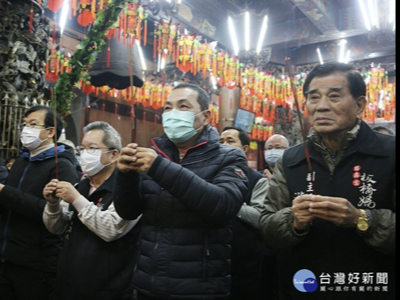with_mask: (162, 96, 205, 141), (78, 139, 111, 175), (19, 117, 50, 150), (264, 141, 286, 164)
without_mask: (305, 85, 361, 134)
